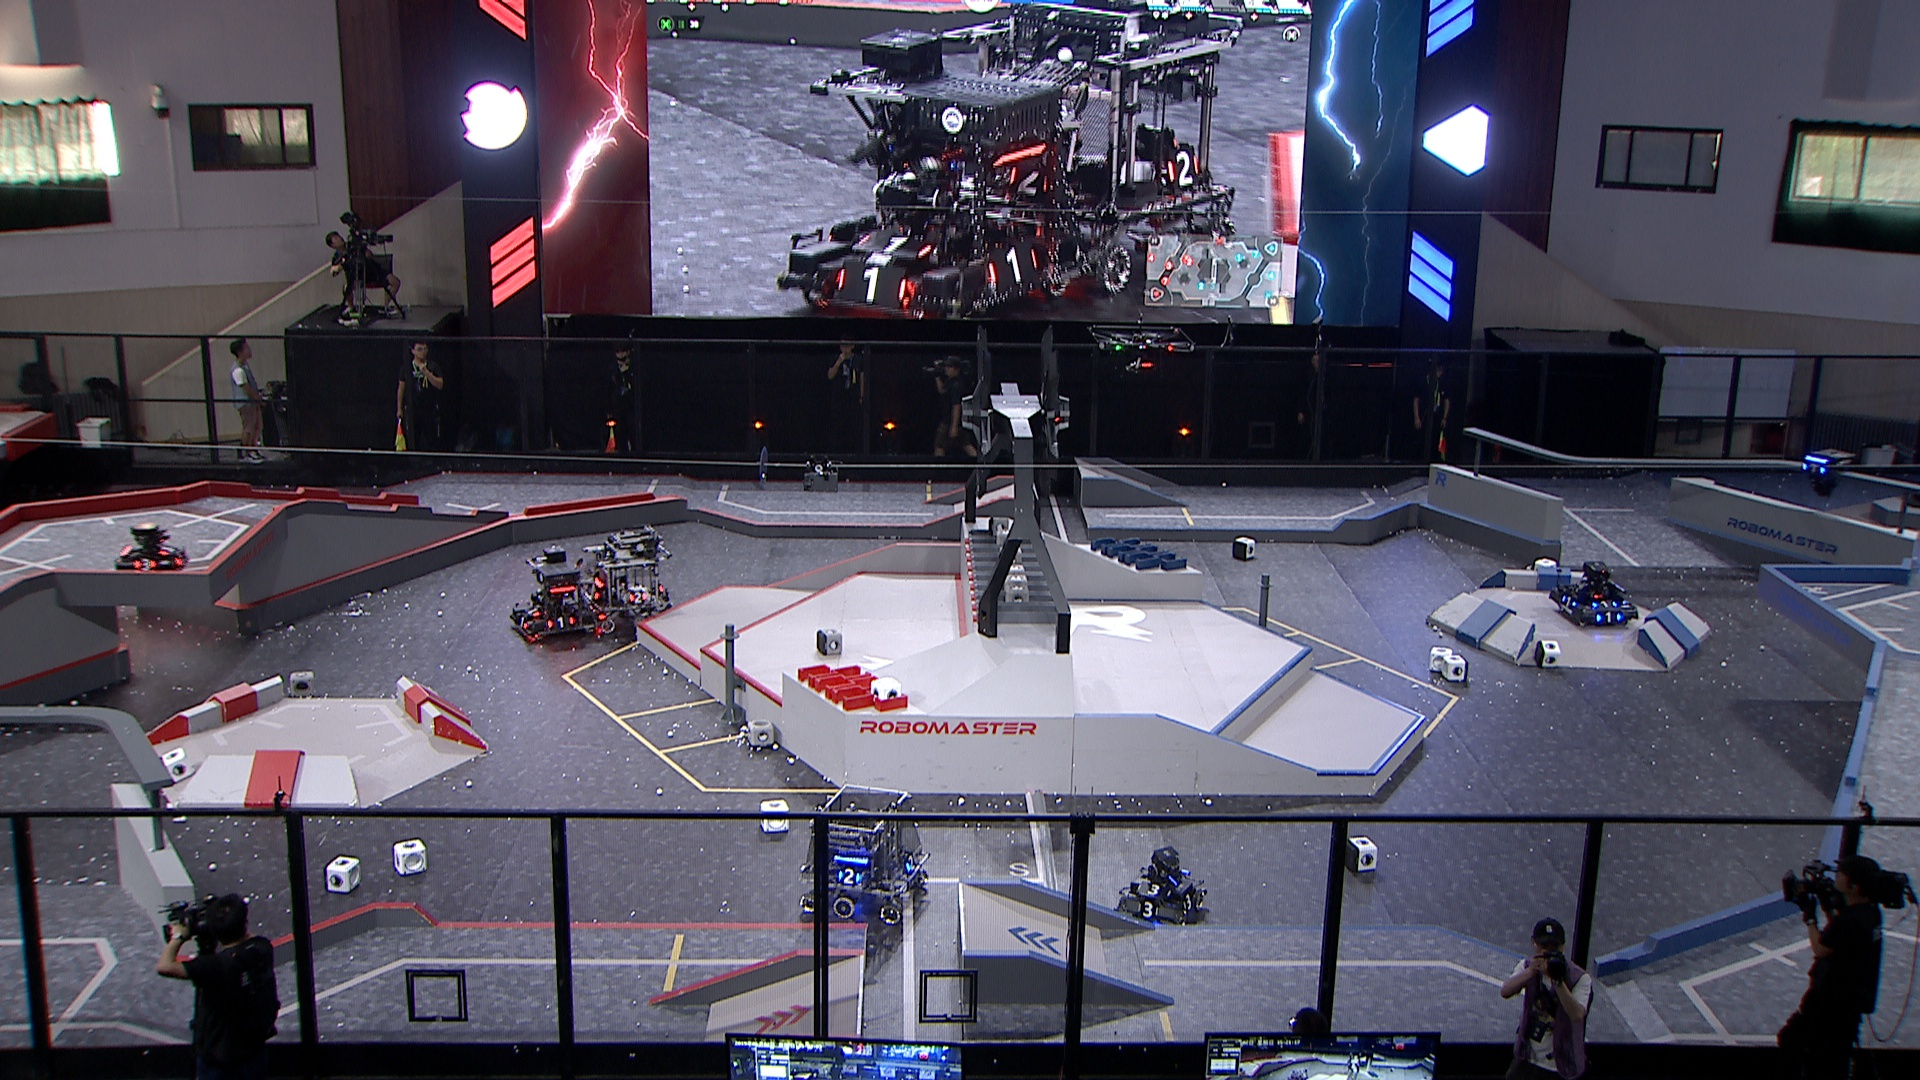armor: (1138, 884, 1174, 901), (839, 865, 861, 887), (1135, 902, 1160, 920), (546, 616, 575, 632), (133, 555, 160, 572), (1799, 462, 1828, 476), (1179, 893, 1197, 913), (626, 589, 651, 604), (1594, 612, 1625, 624), (1592, 597, 1619, 609), (157, 545, 177, 559), (903, 853, 918, 873), (516, 616, 531, 632), (1561, 595, 1577, 611), (526, 605, 541, 618)
car: (796, 781, 927, 926), (585, 524, 676, 638), (506, 542, 599, 644), (1110, 845, 1207, 927), (1545, 560, 1640, 628), (109, 522, 189, 580)
ignore: (773, 26, 1096, 328)
watcher: (1799, 446, 1851, 496)
